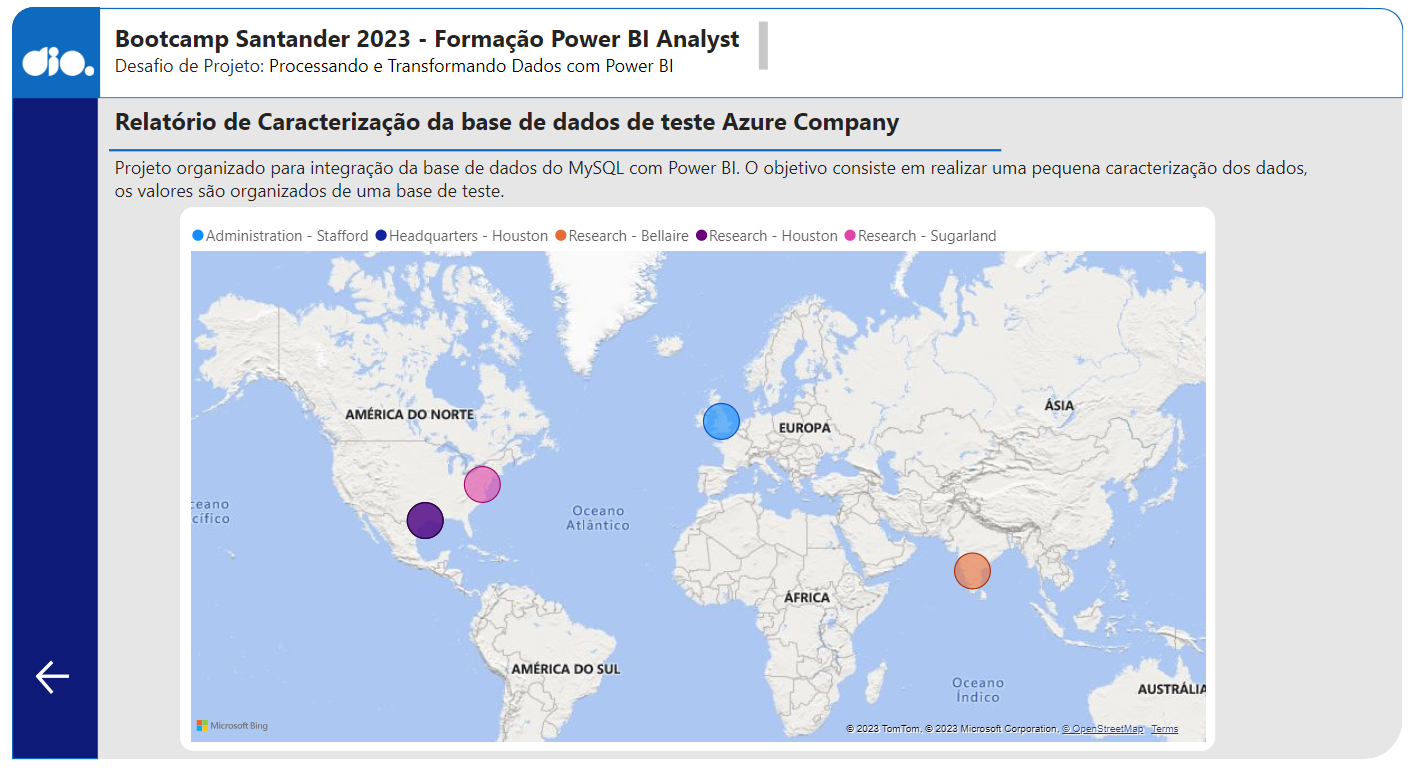

The dashboard page shown, as its layout file describes it:
{"tool":"powerbi","page":{"name":"Pagina 2","canvas":[1280,720],"ordinal":1},"visuals":[{"type":"shape","box":[19.1,15.5,1245.5,673.6],"z":0},{"type":"shape","box":[19.1,15.5,77.3,673.6],"z":1000},{"type":"textbox","box":[105.5,97.3,1097.3,105.5],"z":2000},{"type":"shape","box":[20,15.5,78.2,81.8],"z":3000},{"type":"image","title":"logo_dio","box":[23.6,26.4,73.6,74.5],"z":4000},{"type":"shape","box":[96.4,16.4,1168.2,80.9],"z":5000},{"type":"textbox","box":[105.5,23.6,595.5,65.5],"z":6000},{"type":"shape","box":[105.5,129.1,799.1,29.1],"z":7000},{"type":"map","fields":{"Size":["CountNonNull(azure_company project (2).Pname)"],"Series":["Consulta3.departamento-local"],"Category":["Consulta3.departamento-local"]},"box":[169.1,194.5,927.3,487.3],"z":10001},{"type":"actionButton","box":[35.5,595.5,45.5,40],"z":10002}]}

Visuals, with their boxes on the page's 1280x720 design canvas (x1, y1, x2, y2). These are canvas units, not pixel positions in the 1412x771 screenshot, which may show the page scaled, cropped or inside an application window:
shape: Rect(19, 16, 1265, 689)
shape: Rect(19, 16, 96, 689)
textbox: Rect(106, 97, 1203, 203)
shape: Rect(20, 16, 98, 97)
"logo_dio" image: Rect(24, 26, 97, 101)
shape: Rect(96, 16, 1265, 97)
textbox: Rect(106, 24, 701, 89)
shape: Rect(106, 129, 905, 158)
map - CountNonNull(azure_company project (2).Pname) x Consulta3.departamento-local: Rect(169, 194, 1096, 682)
actionButton: Rect(36, 596, 81, 636)
